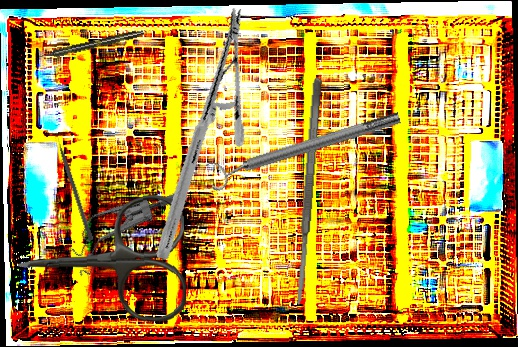Fixation Ring: (204, 103, 405, 193)
Handpiece: (38, 28, 145, 61)
Iris Scissors: (15, 193, 188, 328)
Needle Holder: (109, 6, 291, 261)
Pusher: (53, 130, 95, 242)
Spatula Surgical: (292, 77, 324, 307)
Speculum: (60, 161, 181, 301)
